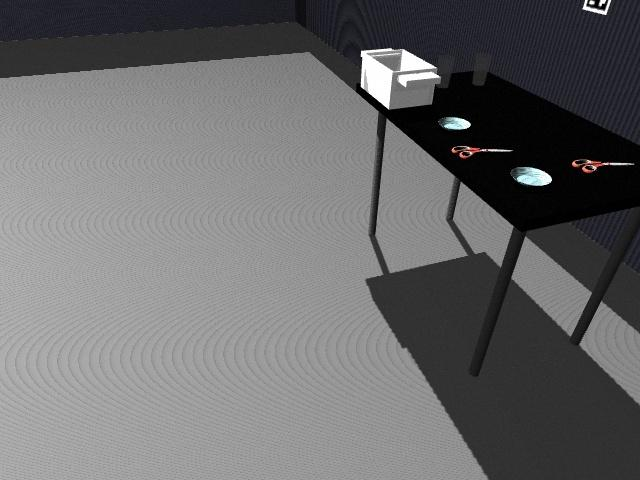cup: (472, 52, 492, 87), (435, 54, 454, 88)
plate: (509, 166, 554, 187), (438, 117, 471, 130)
scissors: (573, 158, 637, 173), (451, 144, 512, 157)
